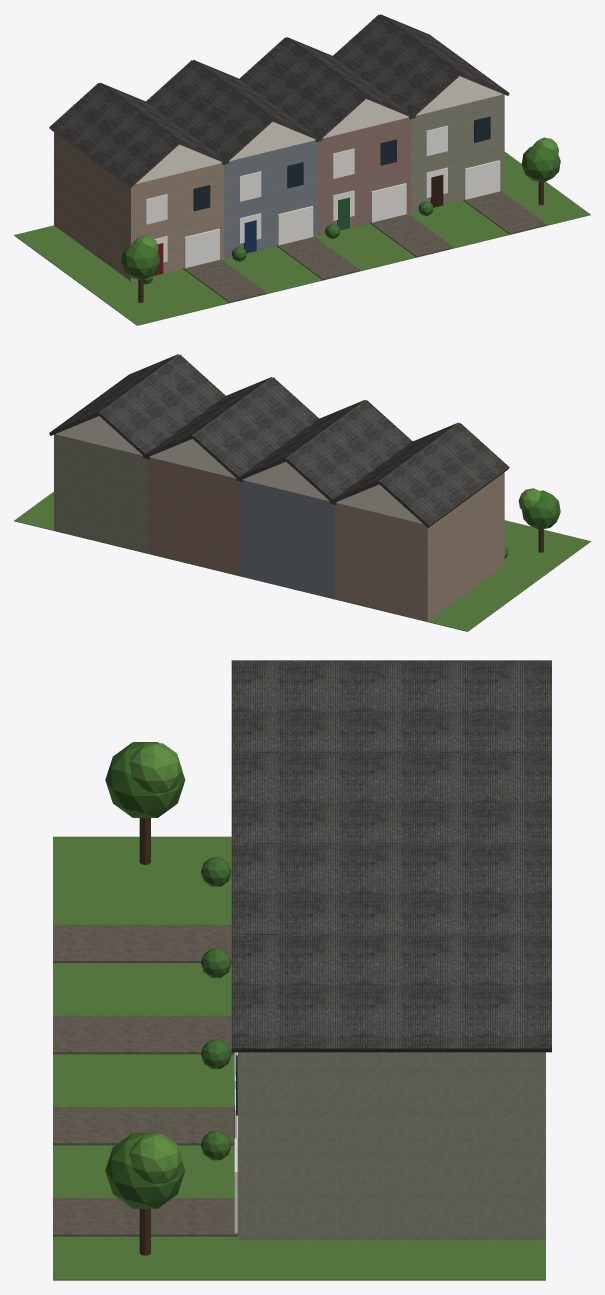
The model's file is OT_Townhouses_A.glb.
The picture shows the model from 3 angles, top to bottom: view 1: azimuth 30°, elevation 25°; view 2: azimuth 150°, elevation 25°; view 3: azimuth 270°, elevation 25°; orthographic projection. The views are drawn at different scales.
Visible parts, largest first — view 1: OT_Townhouses_A_Shingle, OT_Townhouses_A_Lawn__567d3a, OT_Townhouses_A_Siding0, OT_Townhouses_A_Concrete, OT_Townhouses_A_Siding2, OT_Townhouses_A_Siding1, OT_Townhouses_A_Siding3, OT_Townhouses_A_Gable__e8e2d4, OT_Townhouses_A_GarageDoor__f0efe9, OT_Townhouses_A_TrimWhite__f0efe9, OT_Townhouses_A_Leaf__3f6e2c, OT_Townhouses_A_Glass__22303a (+2 smaller); view 2: OT_Townhouses_A_Shingle, OT_Townhouses_A_Siding0, OT_Townhouses_A_Siding3, OT_Townhouses_A_Siding1, OT_Townhouses_A_Siding2, OT_Townhouses_A_Lawn__567d3a, OT_Townhouses_A_Gable__e8e2d4, OT_Townhouses_A_Leaf__3f6e2c; view 3: OT_Townhouses_A_Shingle, OT_Townhouses_A_Lawn__567d3a, OT_Townhouses_A_Siding3, OT_Townhouses_A_Concrete, OT_Townhouses_A_Leaf__3f6e2c, OT_Townhouses_A_Leaf2__58893a, OT_Townhouses_A_Shrub__3e6b2f, OT_Townhouses_A_Bark__4a3424.
Boxes of the visible parts, left/top/right/bottom form: OT_Townhouses_A_Shingle: left=49, top=14, right=509, bottom=187; OT_Townhouses_A_Lawn__567d3a: left=14, top=152, right=590, bottom=325; OT_Townhouses_A_Siding0: left=54, top=132, right=224, bottom=281; OT_Townhouses_A_Concrete: left=183, top=190, right=546, bottom=302; OT_Townhouses_A_Siding2: left=318, top=117, right=411, bottom=235; OT_Townhouses_A_Siding1: left=224, top=140, right=317, bottom=258; OT_Townhouses_A_Siding3: left=411, top=94, right=504, bottom=213; OT_Townhouses_A_Gable__e8e2d4: left=136, top=76, right=502, bottom=183; OT_Townhouses_A_GarageDoor__f0efe9: left=184, top=160, right=500, bottom=268; OT_Townhouses_A_TrimWhite__f0efe9: left=146, top=125, right=447, bottom=262; OT_Townhouses_A_Leaf__3f6e2c: left=121, top=144, right=560, bottom=280; OT_Townhouses_A_Glass__22303a: left=193, top=116, right=490, bottom=211; OT_Townhouses_A_Shingle: left=49, top=354, right=509, bottom=527; OT_Townhouses_A_Siding0: left=334, top=472, right=504, bottom=621; OT_Townhouses_A_Siding3: left=54, top=434, right=147, bottom=552; OT_Townhouses_A_Siding1: left=241, top=480, right=334, bottom=598; OT_Townhouses_A_Siding2: left=147, top=457, right=240, bottom=575; OT_Townhouses_A_Lawn__567d3a: left=14, top=491, right=590, bottom=631; OT_Townhouses_A_Gable__e8e2d4: left=55, top=416, right=422, bottom=523; OT_Townhouses_A_Leaf__3f6e2c: left=522, top=490, right=560, bottom=529; OT_Townhouses_A_Shingle: left=231, top=660, right=551, bottom=1052; OT_Townhouses_A_Lawn__567d3a: left=53, top=836, right=545, bottom=1280; OT_Townhouses_A_Siding3: left=237, top=1052, right=545, bottom=1240; OT_Townhouses_A_Concrete: left=53, top=924, right=237, bottom=1236; OT_Townhouses_A_Leaf__3f6e2c: left=105, top=742, right=185, bottom=1208; OT_Townhouses_A_Leaf2__58893a: left=130, top=743, right=182, bottom=1183; OT_Townhouses_A_Shrub__3e6b2f: left=201, top=857, right=231, bottom=1160; OT_Townhouses_A_Bark__4a3424: left=139, top=818, right=150, bottom=1255.
Size of the model in its own units: 34 by 9.36 by 16.2.
20 materials, 6 textured.
